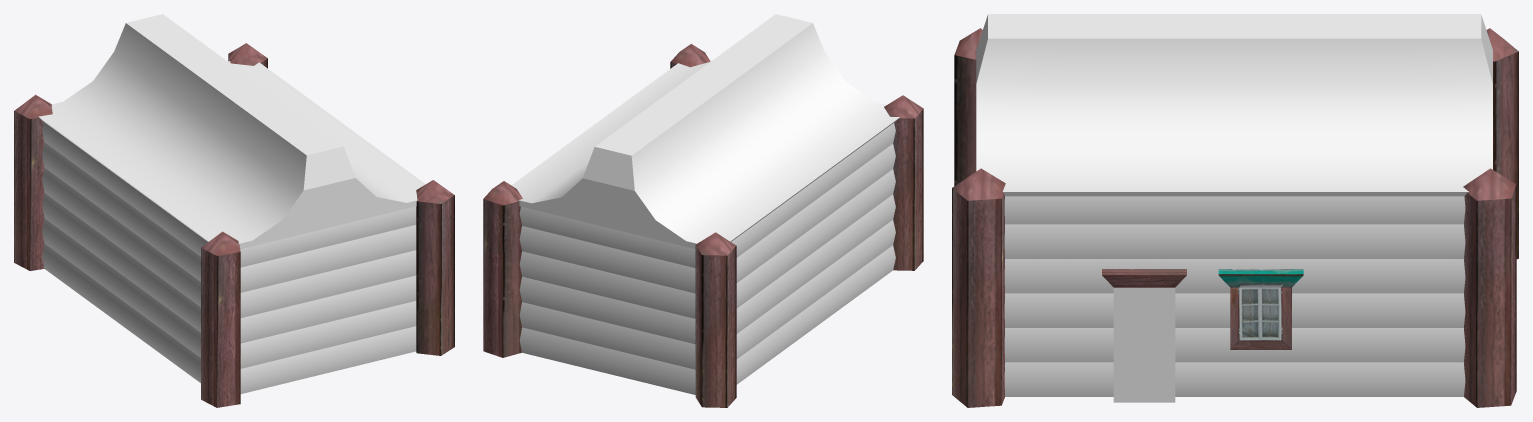
The model's file is House 4.fbx.
3 renders of one model, left to right at view 1: azimuth 30°, elevation 25°; view 2: azimuth 150°, elevation 25°; view 3: azimuth 270°, elevation 25°, orthographic. The views are drawn at different scales.
Visible parts, largest first — view 1: WallFull034; view 2: WallFull034; view 3: WallFull034.
Boxes of the visible parts, <box> form: WallFull034: <box>14,14,454,407</box>; WallFull034: <box>483,14,923,407</box>; WallFull034: <box>952,14,1518,407</box>.
Bounding box in the file's own units: 605 × 893 × 522.
